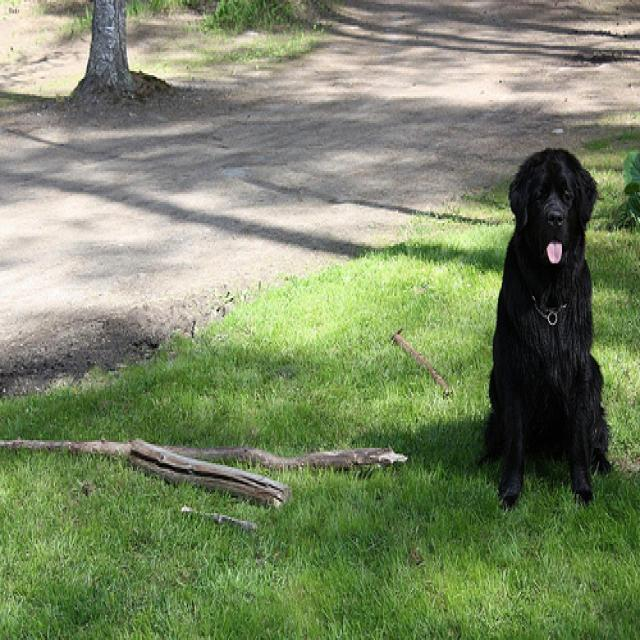dog-newfoundland: (480, 140, 618, 513)
